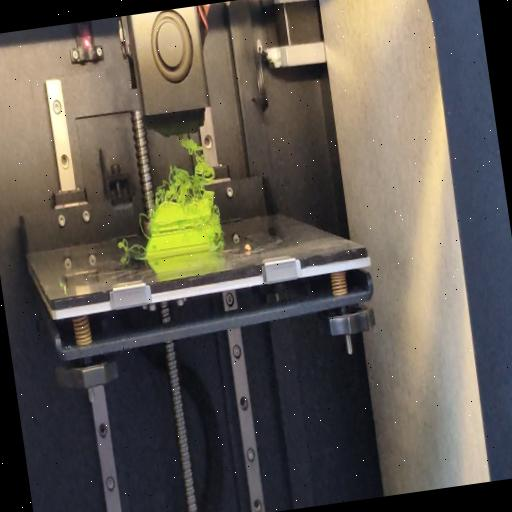spaghetti: (146, 134, 220, 211), (115, 235, 146, 262), (137, 206, 150, 242), (214, 238, 226, 254)
